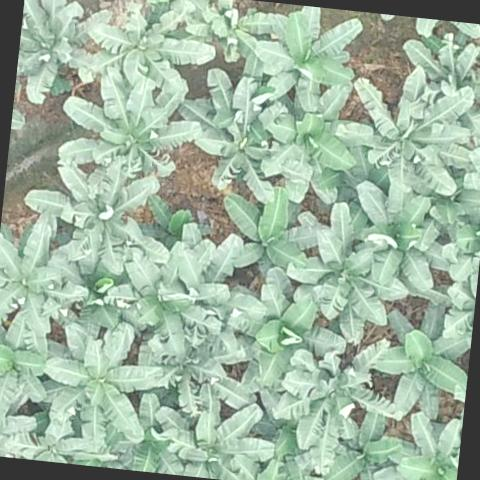Banana-plant: (332, 64, 478, 195), (214, 260, 352, 394), (20, 152, 174, 270), (55, 61, 204, 180), (36, 324, 163, 444), (78, 0, 219, 106), (172, 71, 284, 203), (255, 74, 358, 208), (282, 199, 392, 322), (274, 350, 404, 454), (119, 234, 227, 358), (372, 298, 474, 426), (256, 2, 364, 114), (149, 394, 277, 480), (349, 172, 442, 288), (220, 182, 322, 287), (13, 0, 107, 108), (126, 330, 228, 418), (0, 204, 63, 342), (108, 392, 190, 475), (396, 32, 480, 110), (376, 409, 462, 480), (0, 311, 51, 426), (57, 261, 130, 338), (320, 409, 391, 480), (6, 410, 93, 466)
